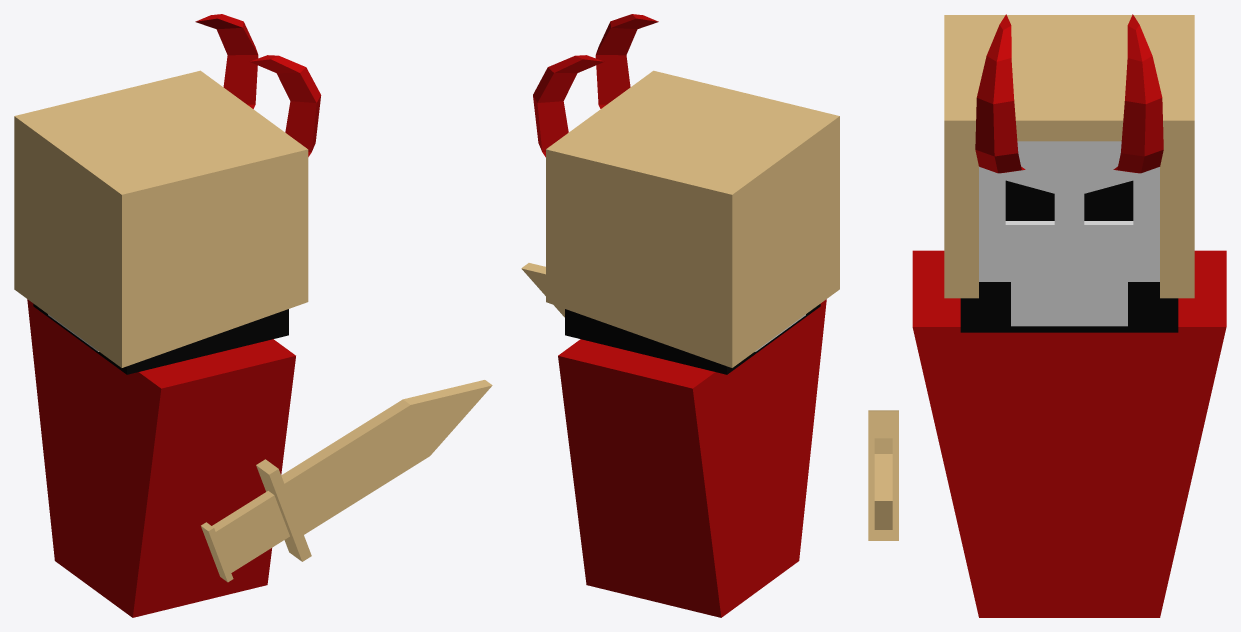
File: Warrior.fbx
The picture shows the model from 3 angles, left to right: view 1: azimuth 30°, elevation 25°; view 2: azimuth 150°, elevation 25°; view 3: azimuth 270°, elevation 25°; orthographic projection. The views are drawn at different scales.
Visible parts, largest first — view 1: Cube.003, Cube, Cube.006, Claw.008, Cube.002; view 2: Cube.003, Cube, Claw.008, Cube.002, Cube.006; view 3: Cube, Cube.003, Cube.001, Claw.008, Cube.002, Cube.006.
Part boxes in pixels (x1,y1,x2,y2): Cube.003: (14,70,308,367); Cube: (27,299,295,617); Cube.006: (201,380,492,582); Claw.008: (195,14,321,156); Cube.002: (33,303,288,374); Cube.003: (546,70,839,367); Cube: (558,299,826,617); Claw.008: (533,14,658,157); Cube.002: (565,304,820,374); Cube.006: (521,263,564,317); Cube: (912,250,1226,617); Cube.003: (944,15,1194,298); Cube.001: (979,141,1159,326); Claw.008: (975,14,1163,173); Cube.002: (960,180,1178,332); Cube.006: (868,410,898,540).
Bounding box in the file's own units: 506 × 732 × 396.
